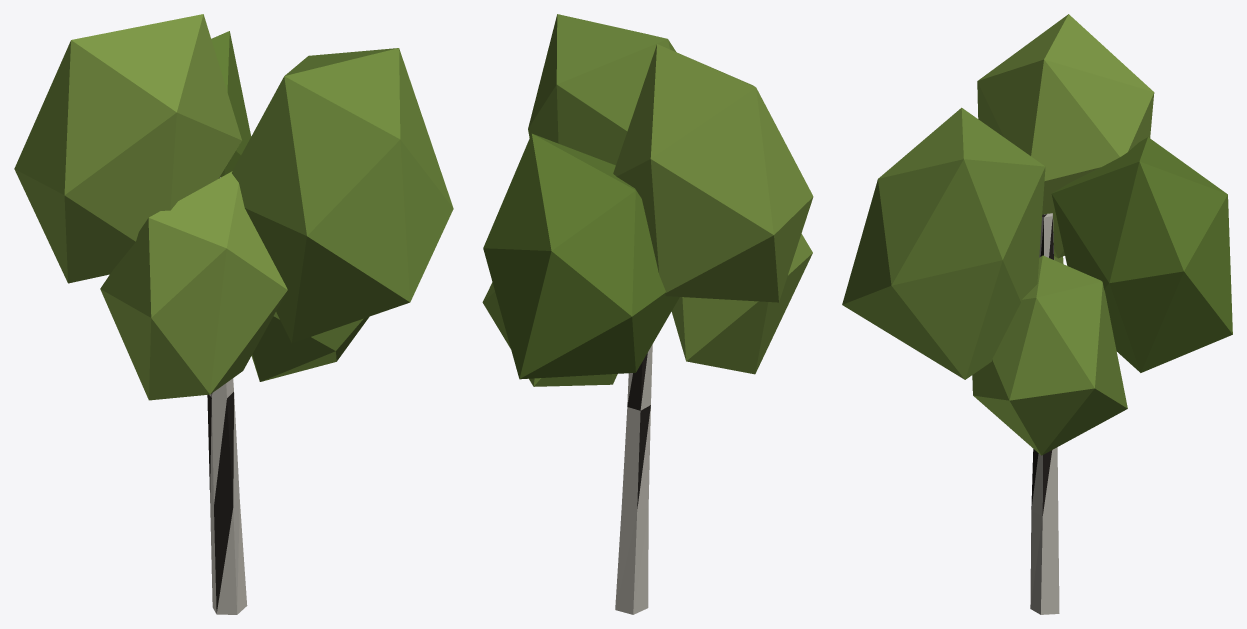
The model's file is e2a_birk.glb.
3 views of the same model, side by side, from view 1: azimuth 30°, elevation 25°; view 2: azimuth 150°, elevation 25°; view 3: azimuth 270°, elevation 25° (orthographic). The views are drawn at different scales.
Visible parts, largest first — view 1: E2_birk_a; view 2: E2_birk_a; view 3: E2_birk_a.
Boxes of the visible parts, <box> form: E2_birk_a: <box>14,14,453,614</box>; E2_birk_a: <box>482,14,813,614</box>; E2_birk_a: <box>842,14,1232,614</box>.
Size of the model in its own units: 3.53 by 6.26 by 4.11.
